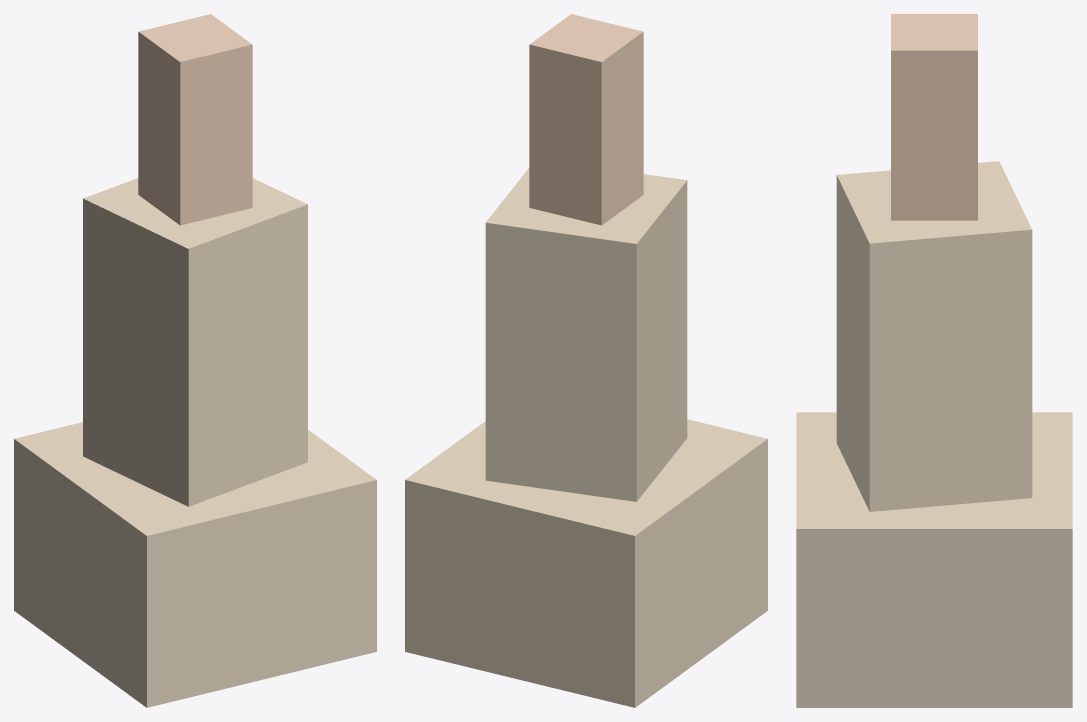
Rendered from spire.glb.
The picture shows the model from 3 angles, left to right: view 1: azimuth 30°, elevation 25°; view 2: azimuth 150°, elevation 25°; view 3: azimuth 270°, elevation 25°; orthographic projection. The views are drawn at different scales.
Visible parts, largest first — view 1: Spire; view 2: Spire; view 3: Spire.
Boxes of the visible parts, x1,y1,x2,y2 form: Spire: (14,14,376,707); Spire: (405,14,767,707); Spire: (796,14,1072,707).
Size of the model in its own units: 0.7 by 1.73 by 0.7.
